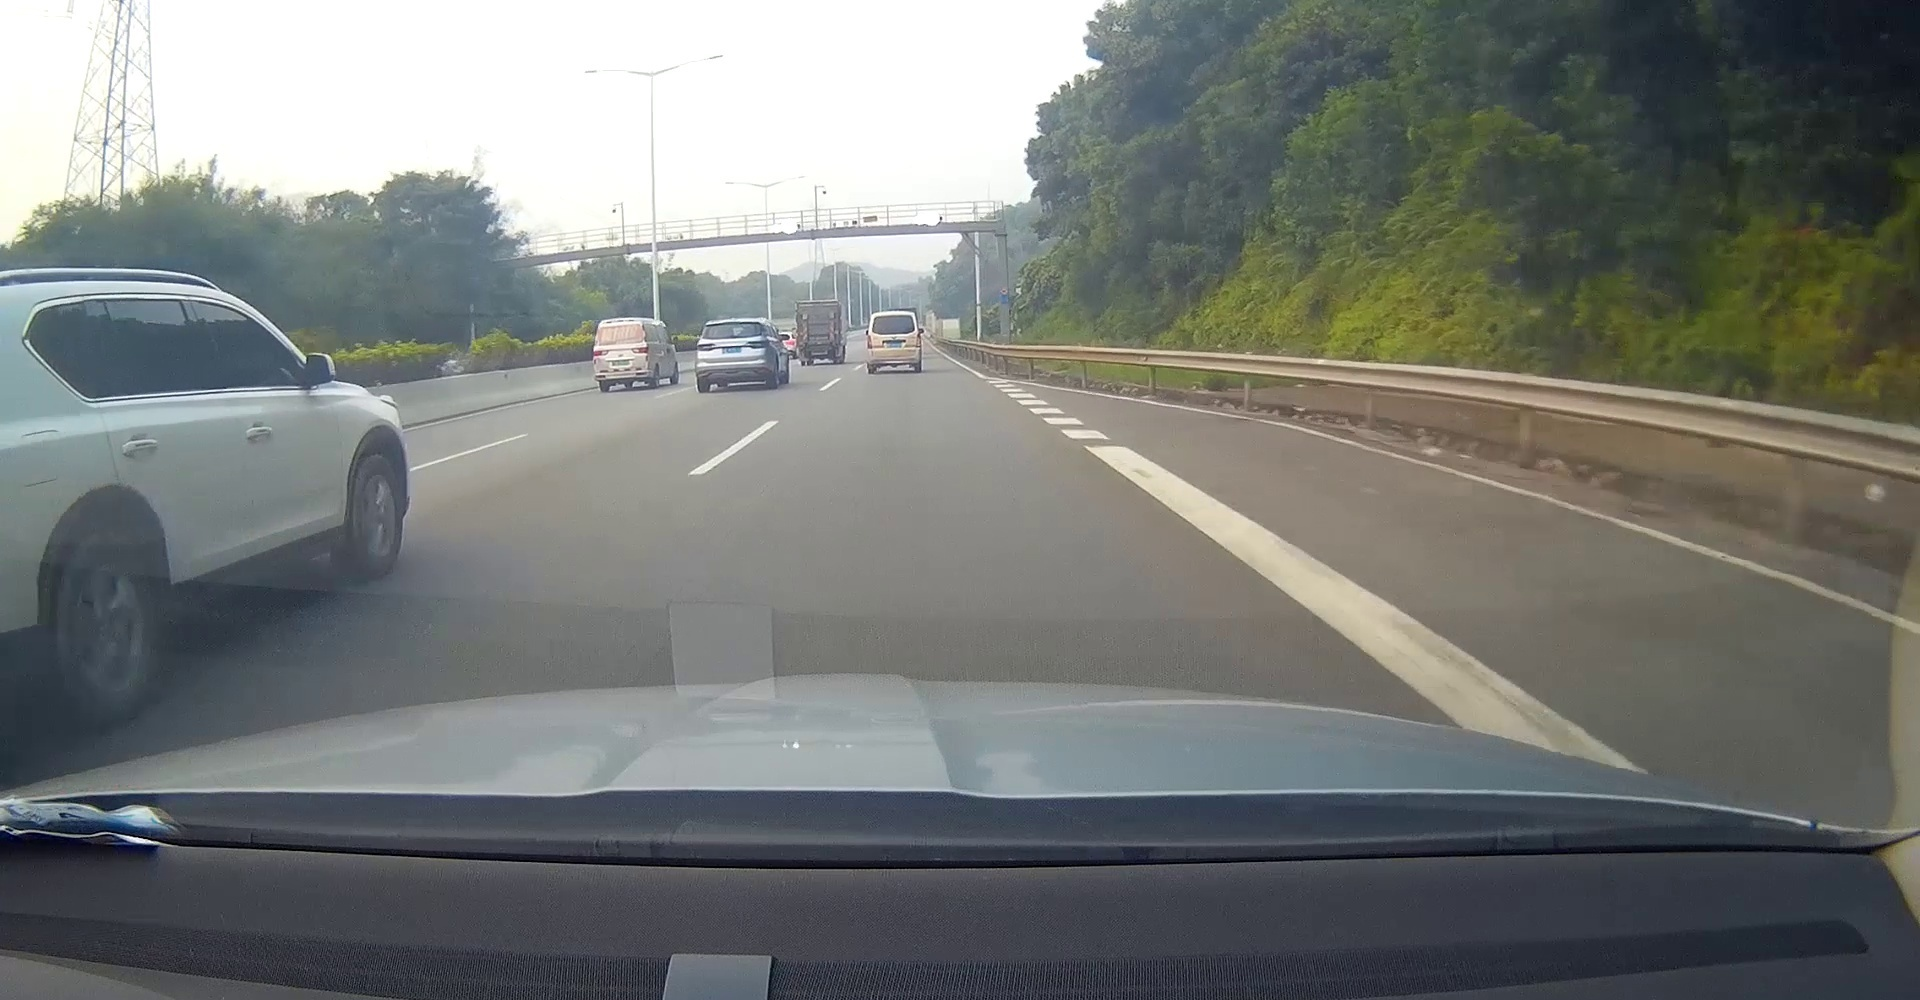L_light: (697, 341, 716, 352), (593, 350, 610, 357), (869, 335, 872, 349), (797, 348, 805, 354)
R_light: (747, 341, 764, 349), (631, 346, 648, 353), (916, 334, 921, 346), (830, 346, 839, 353)
T_light: (617, 321, 631, 324), (811, 302, 823, 305), (890, 313, 899, 316), (728, 322, 740, 324)
day-no: (695, 317, 775, 393), (593, 317, 649, 392), (867, 312, 921, 374), (795, 299, 841, 365)
